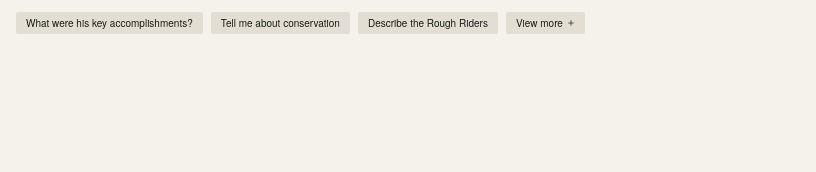
it: SuggestedPrompts › interaction › shows all suggestions when View More is clicked
Click the button "View more".
click(545, 23)  # box [506, 12, 585, 34]
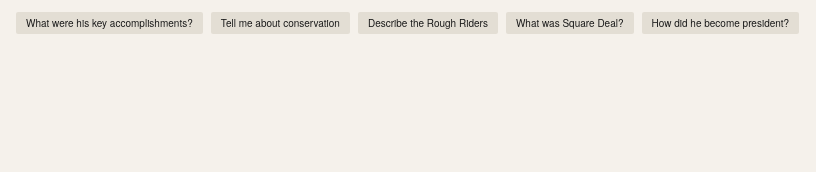
Check: the button "What was Square Deal?" is shown, box [506, 12, 634, 34]
Check: the button "How did he become president?" is shown, box [642, 12, 799, 34]
